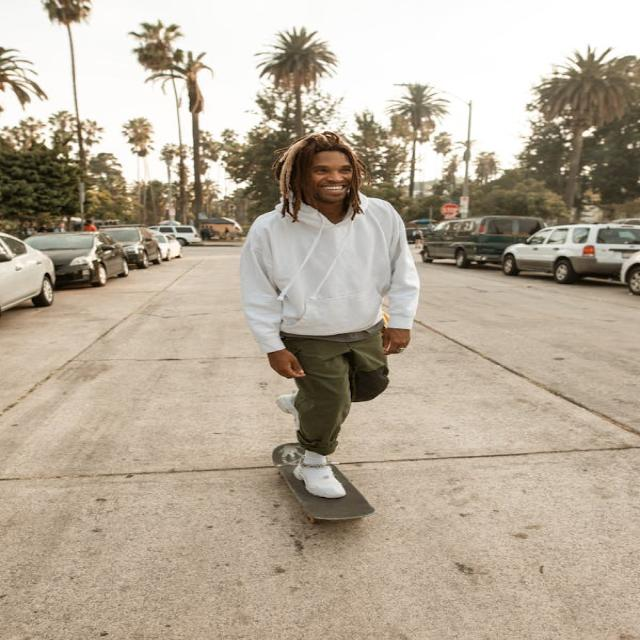Real human 2: (218, 113, 452, 539)
